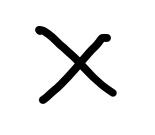mult: (35, 26, 118, 104)
